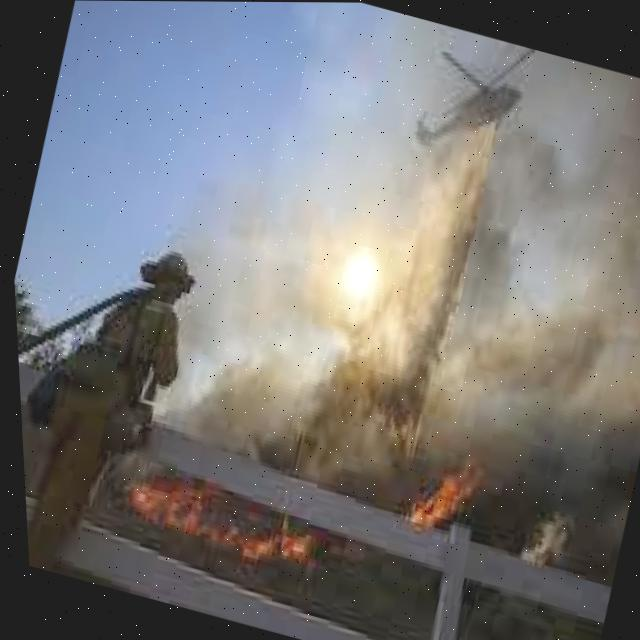smoke: (239, 113, 494, 495), (438, 47, 640, 487)
